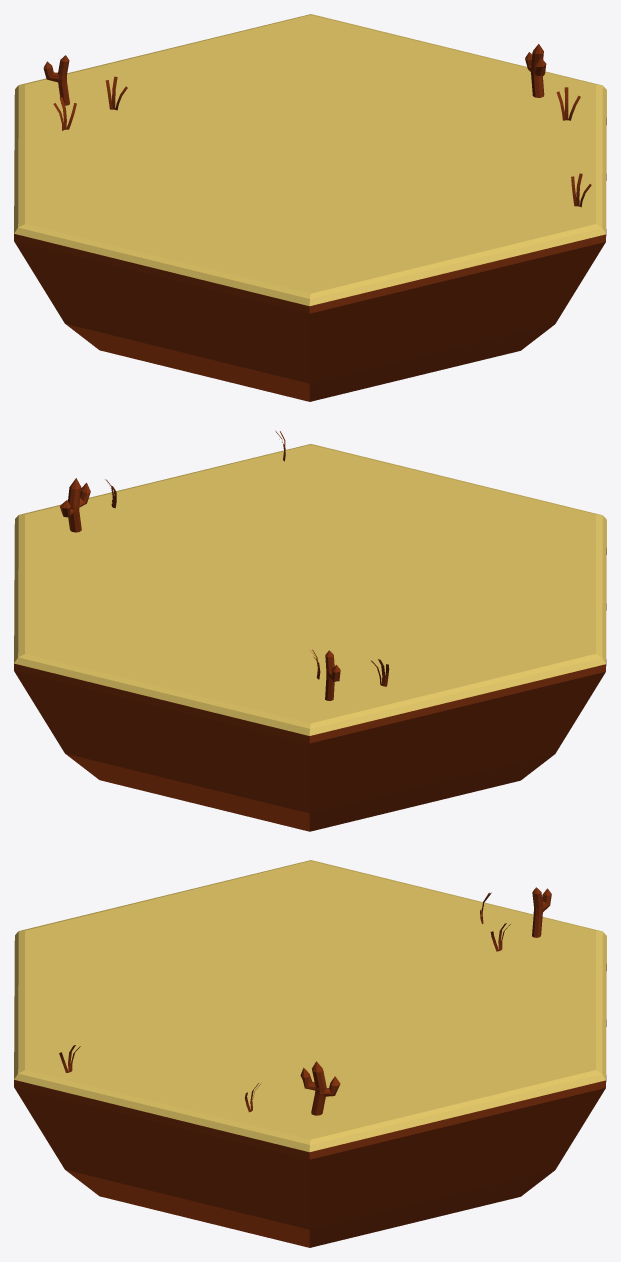
File: Asset_Biome_Desert_01.fbx
3 views of the same model, one above another, from view 1: azimuth 30°, elevation 25°; view 2: azimuth 150°, elevation 25°; view 3: azimuth 270°, elevation 25° (orthographic).
Parts seen in each view (by area): view 1: Asset_Tile_Desert, PolySurface_cactus_02, PolySurface_cactus_01; view 2: Asset_Tile_Desert, PolySurface_cactus_02; view 3: Asset_Tile_Desert, PolySurface_cactus_02, PolySurface_cactus_01.
Boxes of the visible parts, <box> form: Asset_Tile_Desert: <box>14,14,606,401</box>; PolySurface_cactus_02: <box>525,44,546,97</box>; PolySurface_cactus_01: <box>43,55,69,105</box>; Asset_Tile_Desert: <box>14,444,606,831</box>; PolySurface_cactus_02: <box>60,478,90,532</box>; Asset_Tile_Desert: <box>14,860,606,1247</box>; PolySurface_cactus_02: <box>300,1061,340,1115</box>; PolySurface_cactus_01: <box>532,887,551,937</box>.
Bounding box in the file's own units: 436 × 148 × 378.
